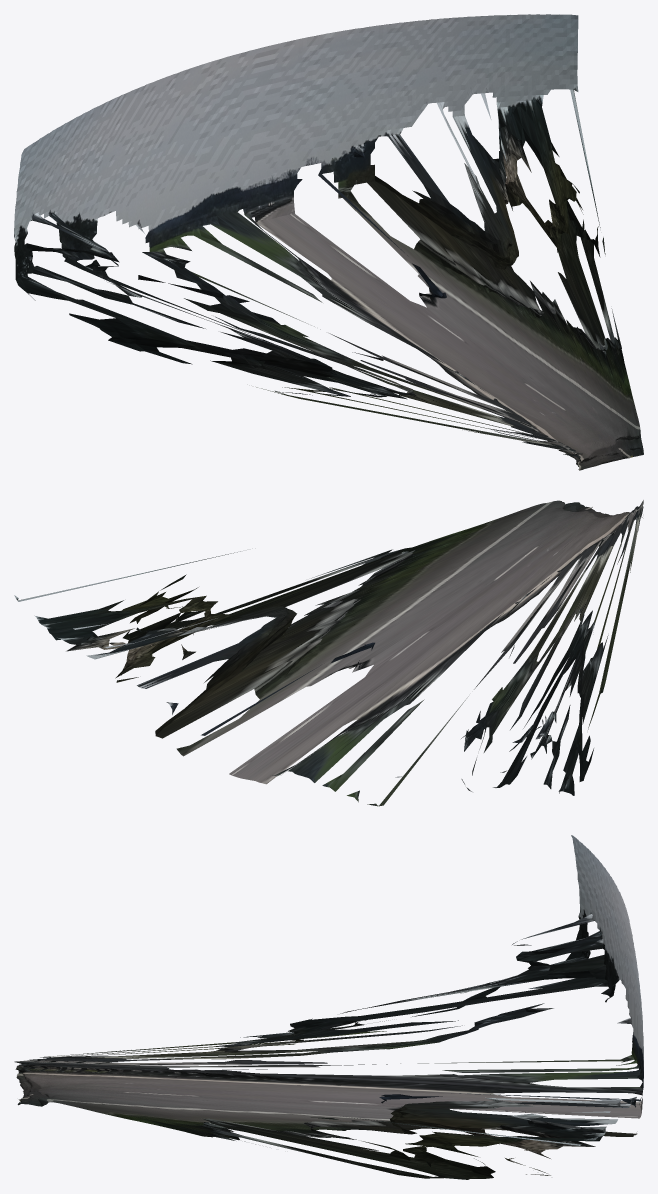
The picture shows the model from 3 angles, top to bottom: view 1: azimuth 30°, elevation 25°; view 2: azimuth 150°, elevation 25°; view 3: azimuth 270°, elevation 25°; orthographic projection. The views are drawn at different scales.
Visible parts, largest first — view 1: defaultobject; view 2: defaultobject; view 3: defaultobject.
Boxes of the visible parts, left/top/right/bottom form: defaultobject: left=14, top=14, right=643, bottom=470; defaultobject: left=14, top=500, right=643, bottom=806; defaultobject: left=14, top=835, right=643, bottom=1179.
Size of the model in its own units: 41.08 by 13.01 by 44.71.
1 material, 1 textured.
